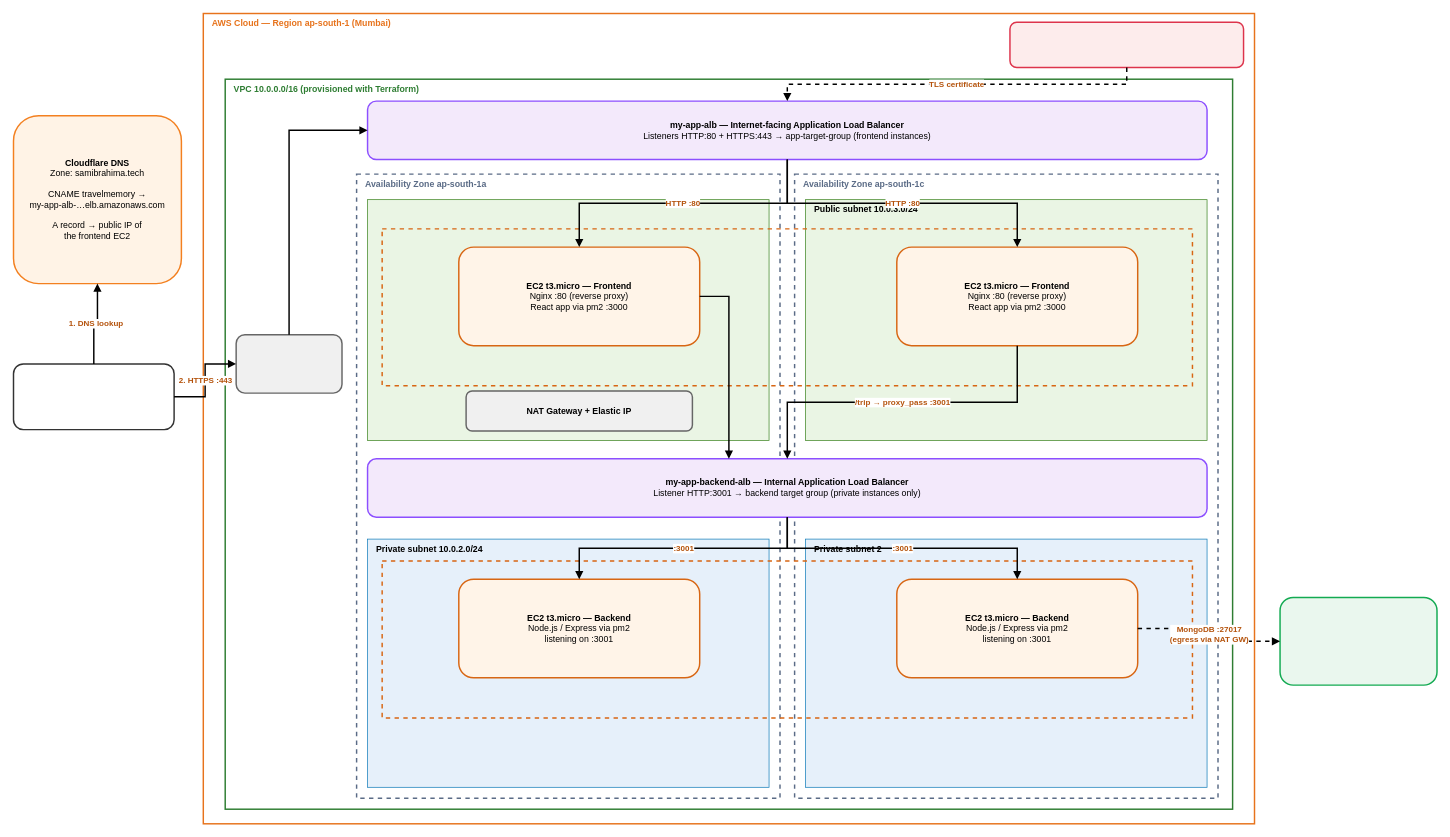
The diagram is 1450 pixels wide and 837 high, and some of its shapes have lost their labels. Each missing label, with the box of its shape:
AWS Certificate Manager travelmemory.samibrahima.tech: (1009, 21, 1244, 68)
Backend ASG · my-app-backend-asg · 2–4: (381, 560, 1193, 718)
Frontend ASG · my-app-asg · 2–4 instances: (381, 228, 1193, 386)
Internet Gateway: (235, 334, 342, 393)
MongoDB Atlas Database (TravelMemory data): (1279, 596, 1437, 685)
Public subnet 10.0.1.0/24: (367, 199, 769, 441)
Users / Browser https://travelmemory. samibrahima.tech: (12, 363, 174, 430)
